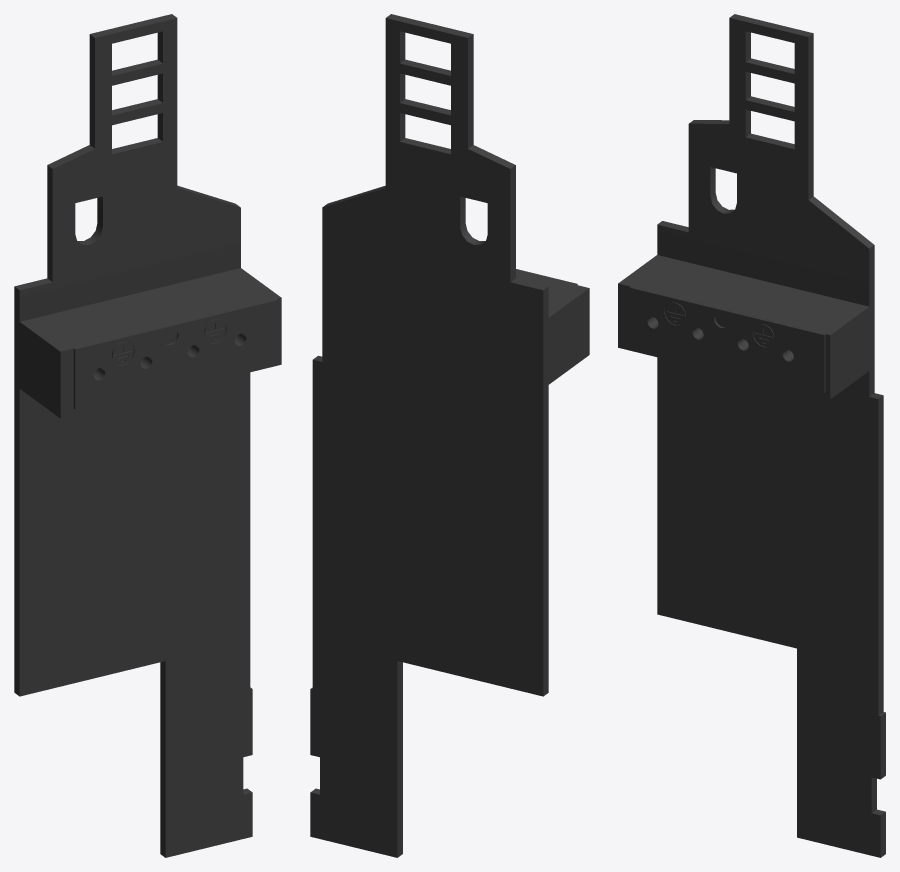
File: Part sperated.fbx
The picture shows the model from 3 angles, left to right: view 1: azimuth 30°, elevation 25°; view 2: azimuth 150°, elevation 25°; view 3: azimuth 330°, elevation 25°; orthographic projection. The views are drawn at different scales.
Visible parts, largest first — view 1: 11-Electronic control, Object115; view 2: 11-Electronic control; view 3: 11-Electronic control, Object115.
Part boxes in pixels (x1,y1,x2,y2): 11-Electronic control: (14, 14, 281, 857); Object115: (73, 299, 278, 409); 11-Electronic control: (310, 14, 589, 857); 11-Electronic control: (618, 14, 885, 857); Object115: (629, 287, 825, 392).
Bounding box in the file's own units: 5.94 × 20.4 × 2.1.
1 material, 1 textured.
